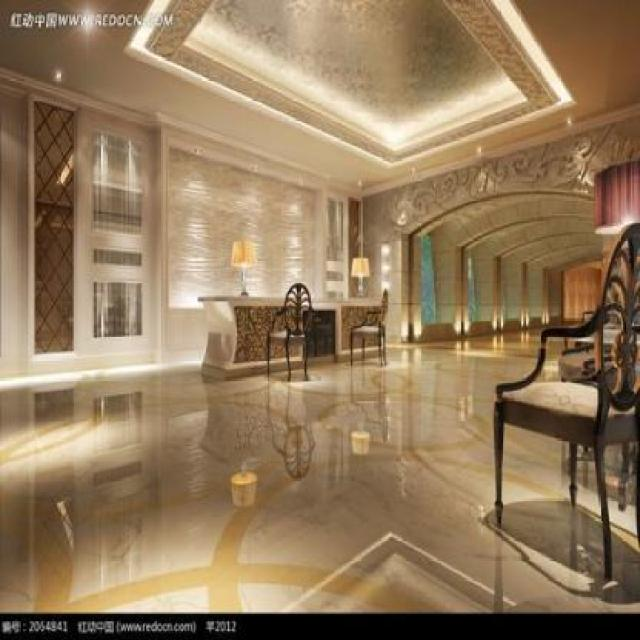frontdesk: (182, 276, 390, 384)
